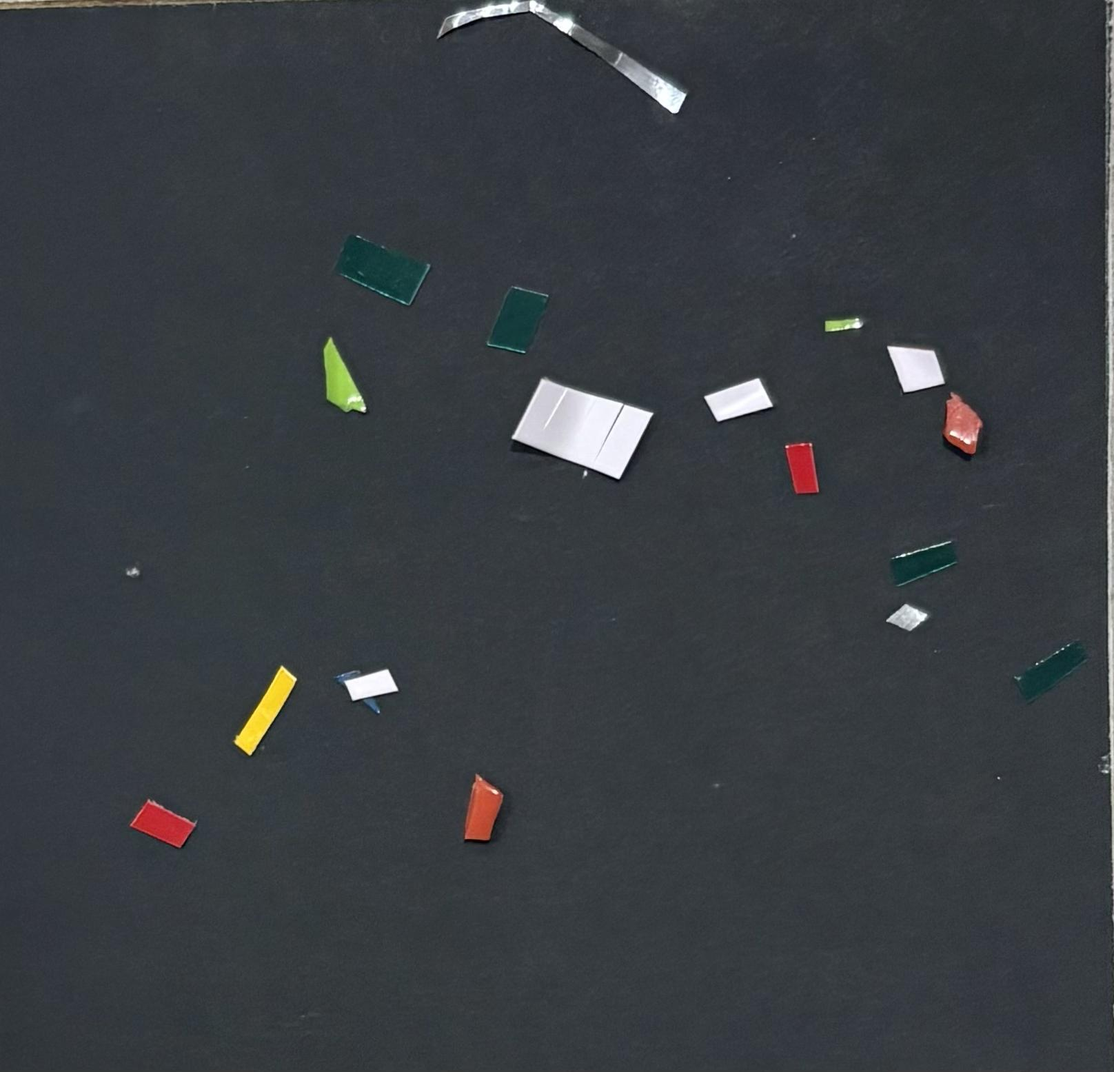Microplastic Particle: (438, 0, 686, 113), (512, 377, 651, 478), (335, 232, 429, 306), (234, 665, 296, 755), (1014, 640, 1087, 702), (487, 286, 548, 353), (323, 336, 366, 412), (130, 799, 195, 847), (705, 377, 773, 421), (891, 540, 957, 585), (887, 345, 945, 392), (464, 773, 503, 840), (943, 392, 982, 455), (338, 669, 397, 700), (784, 442, 819, 494), (886, 604, 929, 631), (824, 316, 864, 332), (334, 670, 361, 683), (125, 563, 141, 578)
